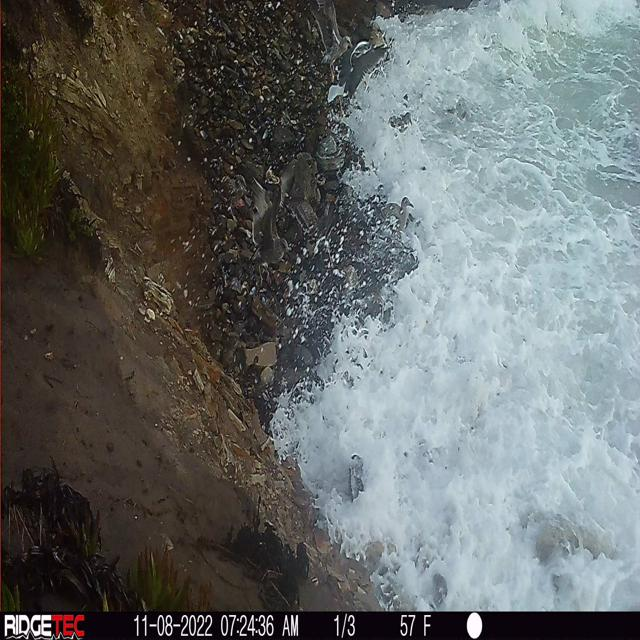bird: (317, 31, 374, 99)
